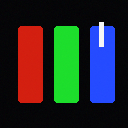4 line_v: (99, 22, 103, 46)
